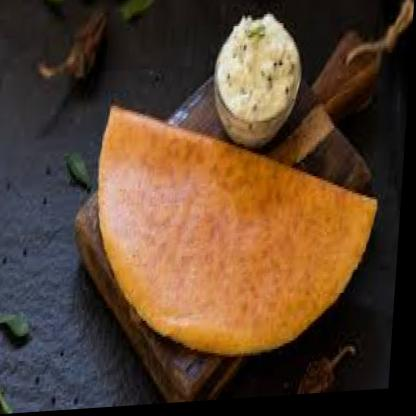dosa: (91, 95, 386, 365)
